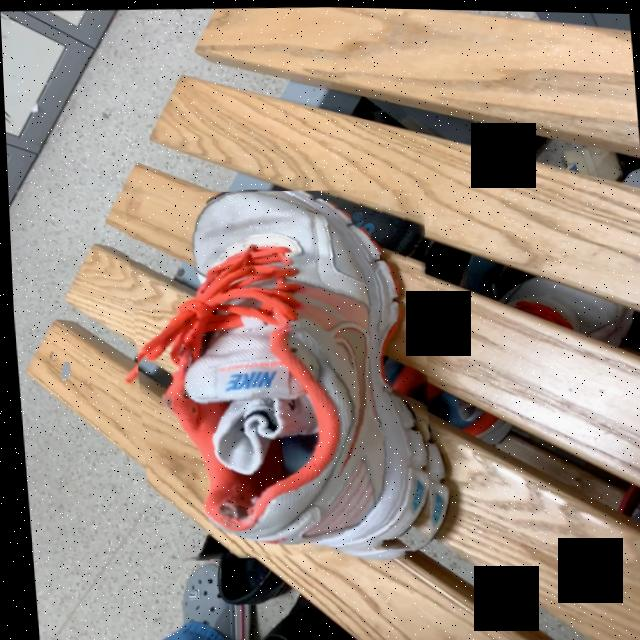shoe: (133, 189, 430, 552)
